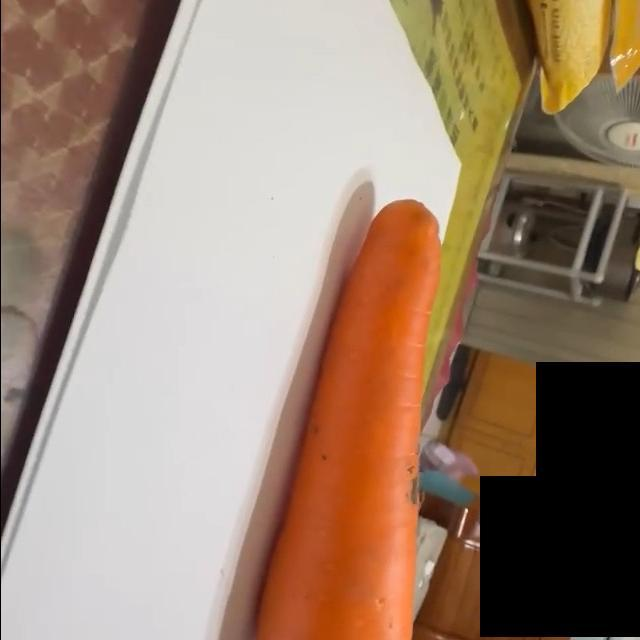carrot: (253, 200, 443, 640)
